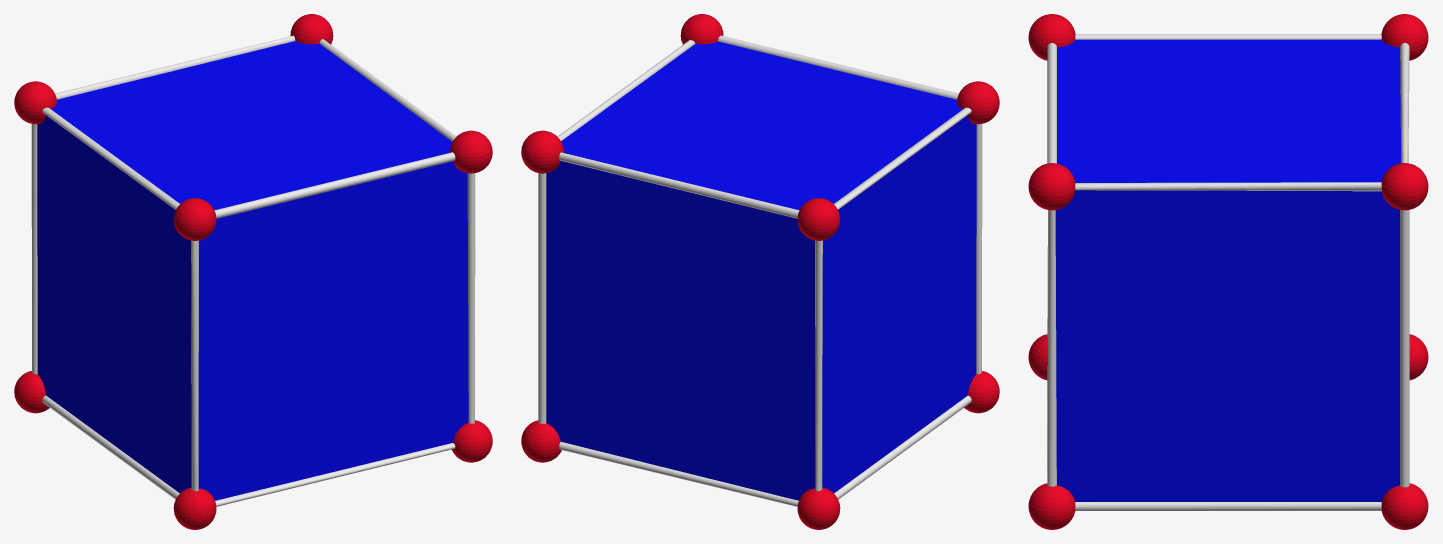
3 views of the same model, side by side, from view 1: azimuth 30°, elevation 25°; view 2: azimuth 150°, elevation 25°; view 3: azimuth 270°, elevation 25° (orthographic). The views are drawn at different scales.
Visible parts, largest first — view 1: F, E, Full, V; view 2: Full, F, E, V; view 3: Full, F, E, V.
Boxes of the visible parts, x1,y1,x2,y2 form: F: [37, 41, 468, 500]; E: [31, 35, 475, 506]; Full: [14, 14, 492, 529]; V: [17, 15, 480, 522]; Full: [521, 14, 999, 529]; F: [561, 41, 976, 492]; E: [545, 35, 982, 501]; V: [533, 15, 996, 522]; Full: [1028, 14, 1428, 529]; F: [1057, 39, 1400, 182]; E: [1047, 34, 1406, 505]; V: [1048, 14, 1407, 529].
Size of the model in its own units: 118 by 118 by 118.
